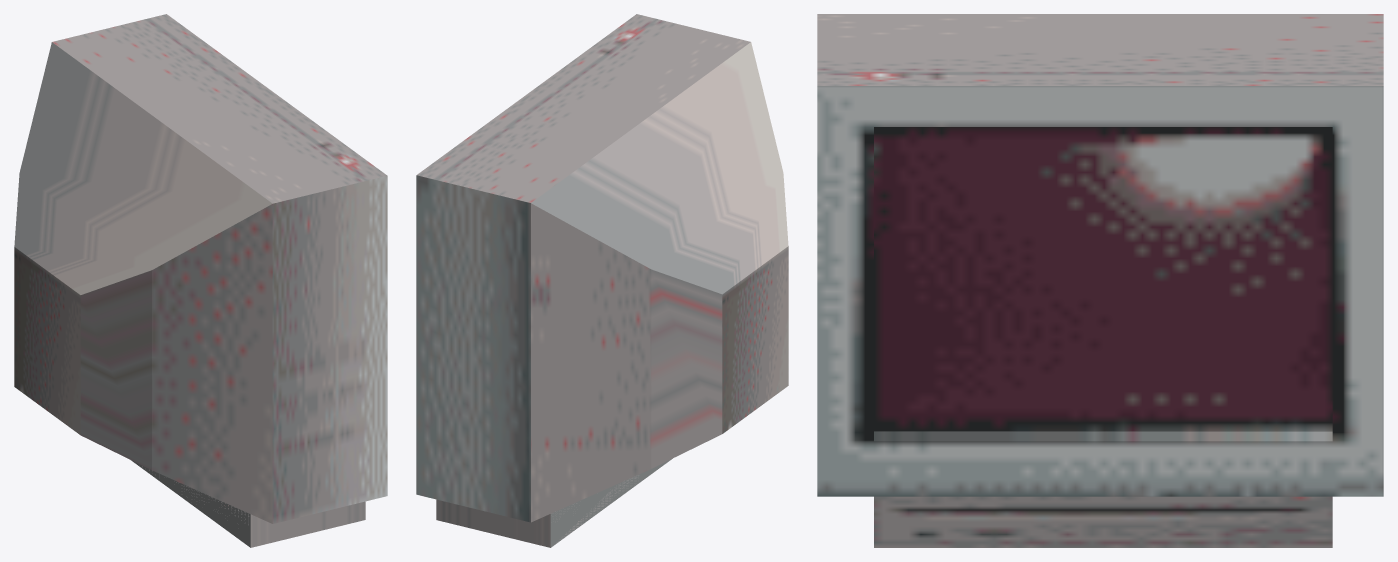
The model's file is Ethernet Main Menu Final Computer Monitor.fbx.
3 views of the same model, side by side, from view 1: azimuth 30°, elevation 25°; view 2: azimuth 150°, elevation 25°; view 3: azimuth 270°, elevation 25° (orthographic). The views are drawn at different scales.
Visible parts, largest first — view 1: Cube; view 2: Cube; view 3: Cube.
Boxes of the visible parts, bbox=[...] form: Cube: bbox=[14, 14, 387, 547]; Cube: bbox=[416, 14, 788, 547]; Cube: bbox=[817, 14, 1383, 547].
Size of the model in its own units: 120 by 180 by 200.
Materials: 1 (1 with a texture image).
